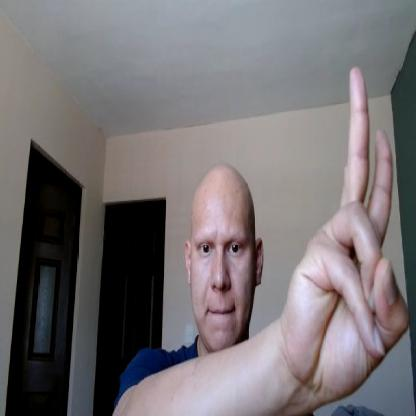V: (282, 64, 410, 405)
